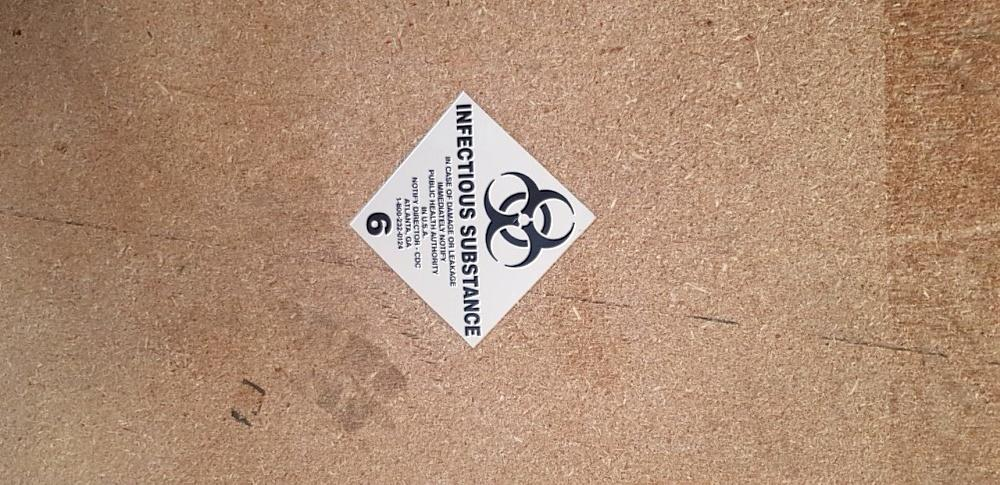infectious-substance: (349, 90, 595, 349)
